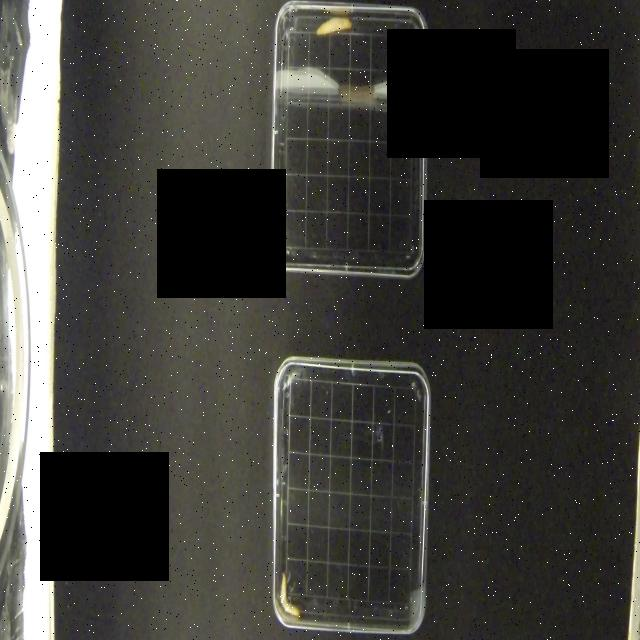larva: (282, 571, 302, 620), (316, 15, 352, 36)
